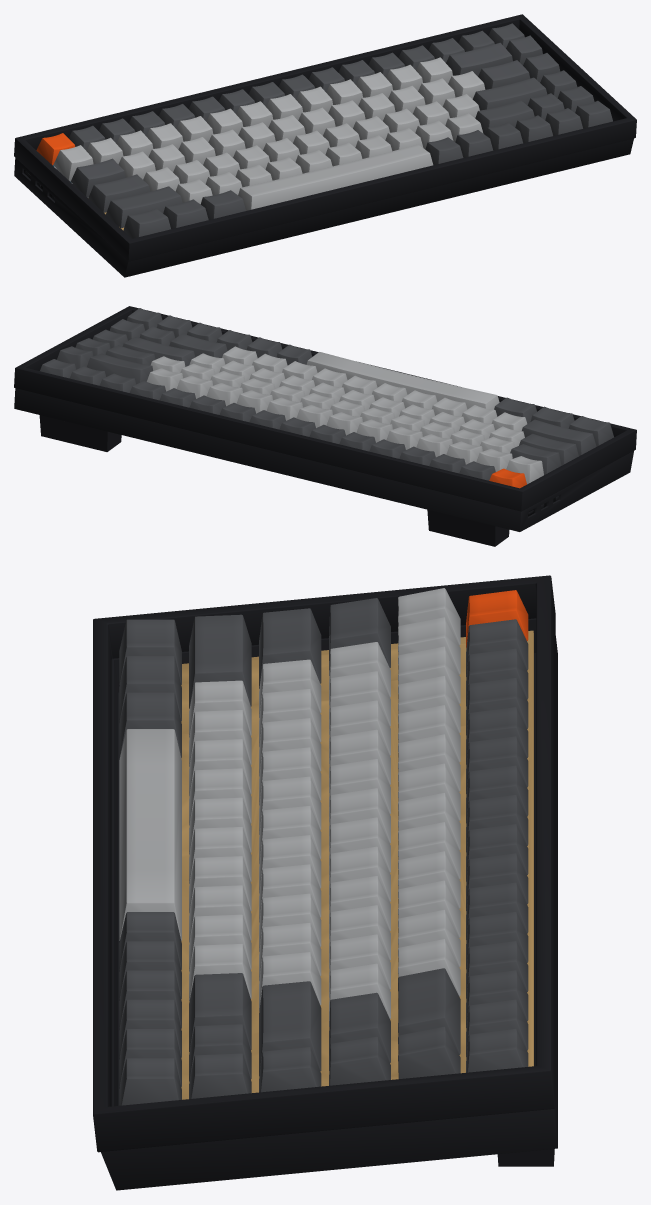
The model's file is keyboard_75.glb.
3 views of the same model, one above another, from view 1: azimuth 30°, elevation 25°; view 2: azimuth 150°, elevation 25°; view 3: azimuth 270°, elevation 25° (orthographic). The views are drawn at different scales.
Visible parts, largest first — view 1: KB_Case_Top, KB_Case_Bottom, KB_Key_R5_03, KB_Key_R4_00, KB_Key_R3_12, KB_Key_R1_13, KB_Key_R3_00, KB_Key_R2_00, KB_Key_R4_11, KB_Key_R2_13, KB_Key_R5_00, KB_Key_R5_02 (+74 smaller); view 2: KB_Case_Top, KB_Case_Bottom, KB_Feet, KB_Key_R5_03, KB_Key_R4_00, KB_Key_R1_13, KB_Key_R3_12, KB_Key_R3_00, KB_Key_R4_11, KB_Key_R2_00, KB_Key_R5_00, KB_Key_R1_00 (+75 smaller); view 3: KB_Case_Top, KB_Case_Bottom, KB_Plate, KB_Key_R5_03, KB_Key_R4_00, KB_Key_R3_12, KB_Key_R1_13, KB_Key_R4_11, KB_Key_R3_00, KB_Key_R2_13, KB_Key_R2_00, KB_Key_R1_14 (+76 smaller).
Part boxes in pixels (left/top/right/bottom): KB_Case_Top: left=14, top=14, right=636, bottom=261; KB_Case_Bottom: left=14, top=138, right=633, bottom=277; KB_Key_R5_03: left=238, top=144, right=433, bottom=210; KB_Key_R4_00: left=106, top=186, right=182, bottom=228; KB_Key_R3_12: left=472, top=77, right=547, bottom=110; KB_Key_R1_13: left=446, top=42, right=512, bottom=76; KB_Key_R3_00: left=88, top=174, right=150, bottom=212; KB_Key_R2_00: left=70, top=158, right=125, bottom=197; KB_Key_R4_11: left=475, top=100, right=534, bottom=134; KB_Key_R2_13: left=478, top=60, right=530, bottom=89; KB_Key_R5_00: left=123, top=208, right=170, bottom=238; KB_Key_R5_02: left=200, top=190, right=245, bottom=219; KB_Case_Top: left=14, top=306, right=636, bottom=511; KB_Case_Bottom: left=14, top=388, right=633, bottom=531; KB_Feet: left=39, top=415, right=509, bottom=546; KB_Key_R5_03: left=306, top=352, right=499, bottom=409; KB_Key_R4_00: left=522, top=419, right=596, bottom=456; KB_Key_R1_13: left=87, top=353, right=152, bottom=384; KB_Key_R3_12: left=122, top=337, right=195, bottom=366; KB_Key_R3_00: left=519, top=433, right=578, bottom=465; KB_Key_R4_11: left=169, top=333, right=227, bottom=357; KB_Key_R2_00: left=510, top=444, right=561, bottom=474; KB_Key_R5_00: left=568, top=416, right=613, bottom=446; KB_Key_R1_00: left=506, top=456, right=543, bottom=484; KB_Case_Top: left=93, top=575, right=555, bottom=1152; KB_Case_Bottom: left=101, top=618, right=557, bottom=1190; KB_Plate: left=181, top=630, right=533, bottom=1099; KB_Key_R5_03: left=119, top=729, right=181, bottom=940; KB_Key_R4_00: left=189, top=614, right=251, bottom=708; KB_Key_R3_12: left=259, top=981, right=321, bottom=1075; KB_Key_R1_13: left=398, top=968, right=460, bottom=1054; KB_Key_R4_11: left=189, top=973, right=251, bottom=1052; KB_Key_R3_00: left=259, top=608, right=321, bottom=688; KB_Key_R2_13: left=329, top=992, right=390, bottom=1070; KB_Key_R2_00: left=329, top=598, right=390, bottom=675; KB_Key_R1_14: left=398, top=1026, right=460, bottom=1078.
Bounding box in the file's own units: 31.3 × 3.77 × 12.41.
